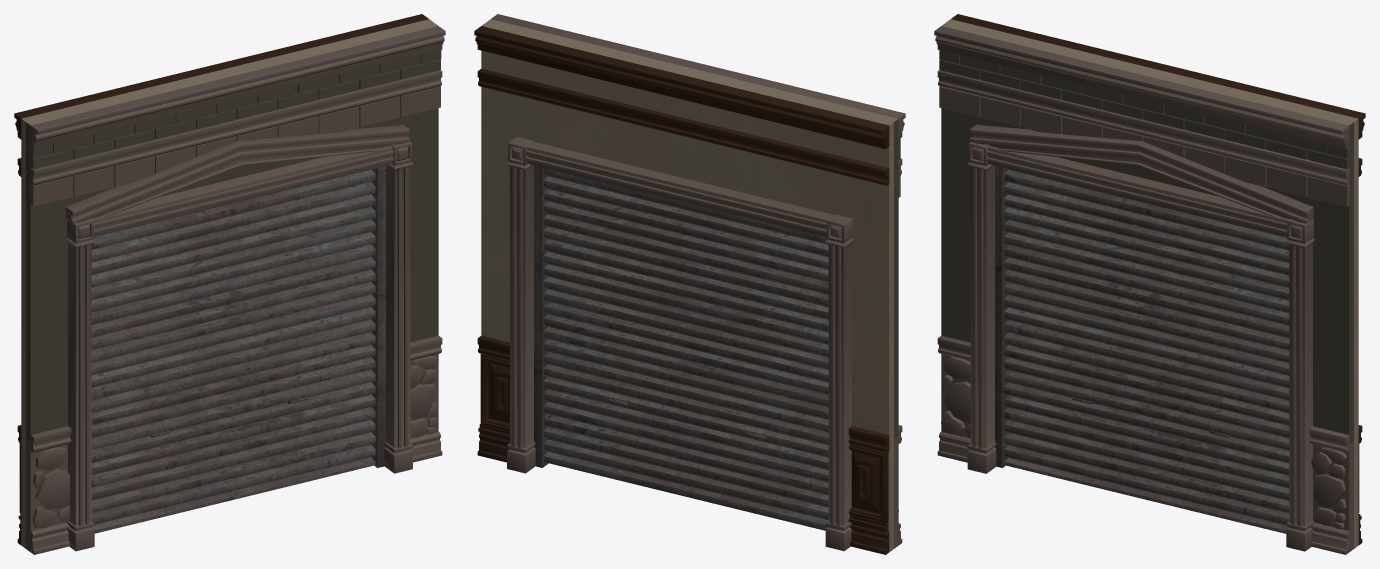
File: SK5 GARAGE DOOR.fbx
The picture shows the model from 3 angles, left to right: view 1: azimuth 30°, elevation 25°; view 2: azimuth 150°, elevation 25°; view 3: azimuth 330°, elevation 25°; orthographic projection.
Parts seen in each view (by area): view 1: SK5 GARAGE DOOR; view 2: SK5 GARAGE DOOR; view 3: SK5 GARAGE DOOR.
Boxes of the visible parts, x1,y1,x2,y2 form: SK5 GARAGE DOOR: [14, 14, 445, 554]; SK5 GARAGE DOOR: [474, 14, 905, 554]; SK5 GARAGE DOOR: [934, 14, 1365, 554].
Bounding box in the file's own units: 400 × 401 × 48.58.
